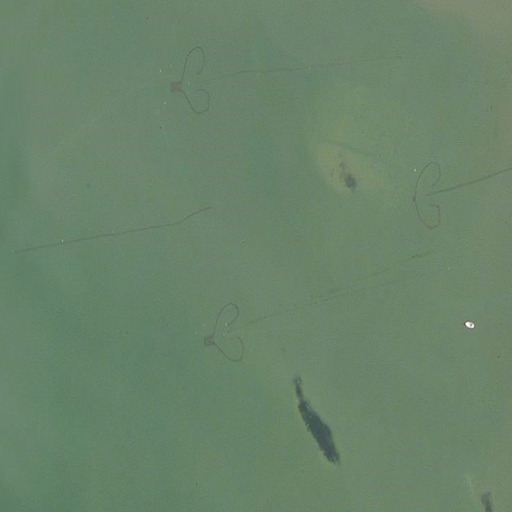ship: (464, 321, 476, 329)
